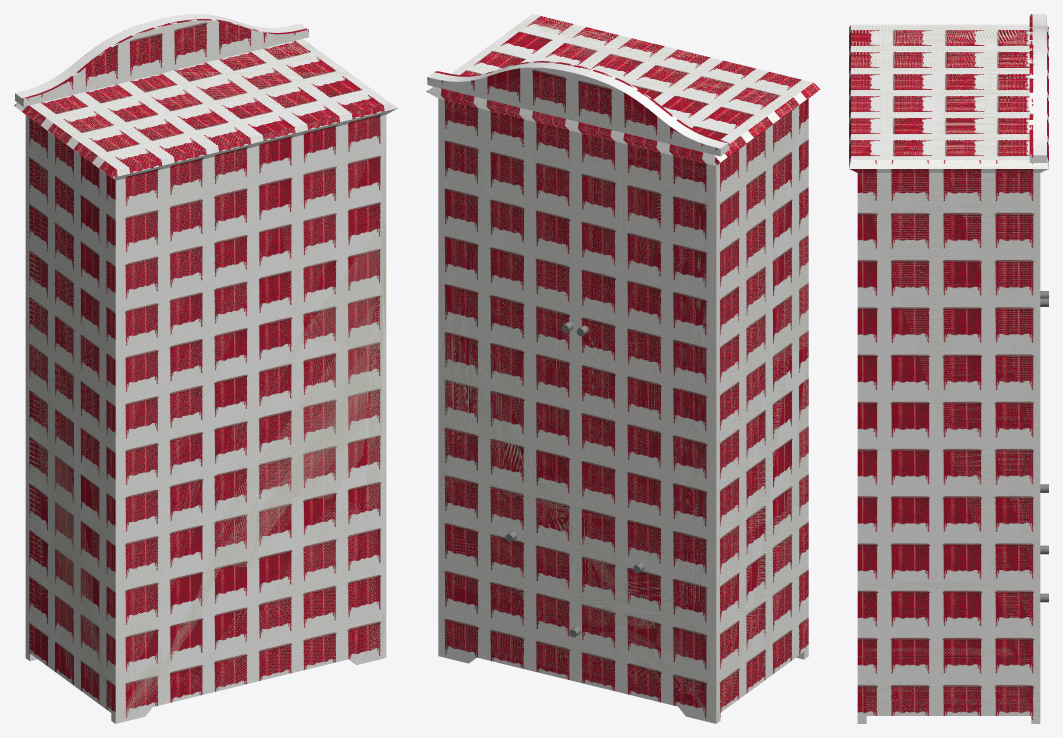
3 views of the same model, side by side, from view 1: azimuth 30°, elevation 25°; view 2: azimuth 150°, elevation 25°; view 3: azimuth 270°, elevation 25° (orthographic). The views are drawn at different scales.
Parts seen in each view (by area): view 1: mesh2_mesh2-geometry; view 2: mesh2_mesh2-geometry; view 3: mesh2_mesh2-geometry, mesh1_mesh1-geometry.
Part boxes in pixels (x1,y1,x2,y2): mesh2_mesh2-geometry: (14, 14, 397, 723); mesh2_mesh2-geometry: (426, 14, 820, 723); mesh2_mesh2-geometry: (849, 14, 1048, 723); mesh1_mesh1-geometry: (1040, 291, 1048, 602).
Bounding box in the file's own units: 0.4289 × 0.8662 × 0.2562.
